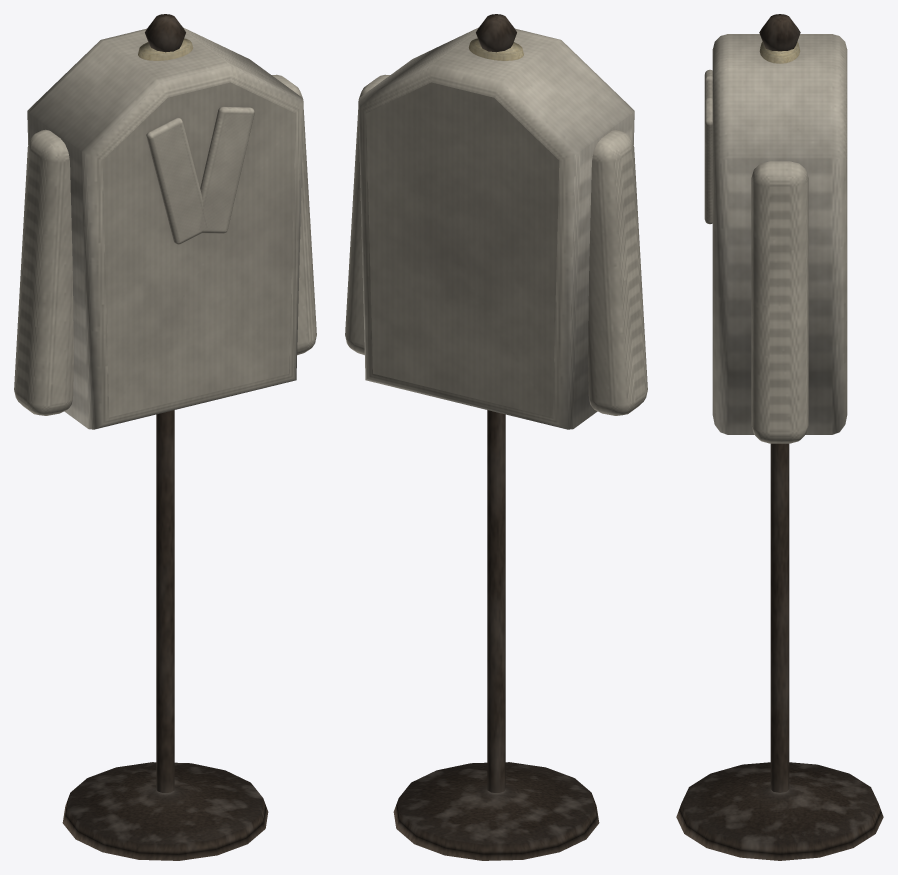
The model's file is manekin.glb.
3 renders of one model, left to right at view 1: azimuth 30°, elevation 25°; view 2: azimuth 150°, elevation 25°; view 3: azimuth 270°, elevation 25°, orthographic.
Visible parts, largest first — view 1: TintTkanina, Manekin; view 2: TintTkanina, Manekin; view 3: TintTkanina, Manekin.
Part boxes in pixels (x1=…): TintTkanina: x1=14, y1=27, x2=316, y2=429; Manekin: x1=62, y1=14, x2=268, y2=860; TintTkanina: x1=345, y1=27, x2=647, y2=429; Manekin: x1=393, y1=14, x2=599, y2=860; TintTkanina: x1=704, y1=34, x2=847, y2=443; Manekin: x1=676, y1=14, x2=883, y2=860.
Size of the model in its own units: 0.6404 by 1.7 by 0.4.
Materials: 2 (2 with a texture image).
